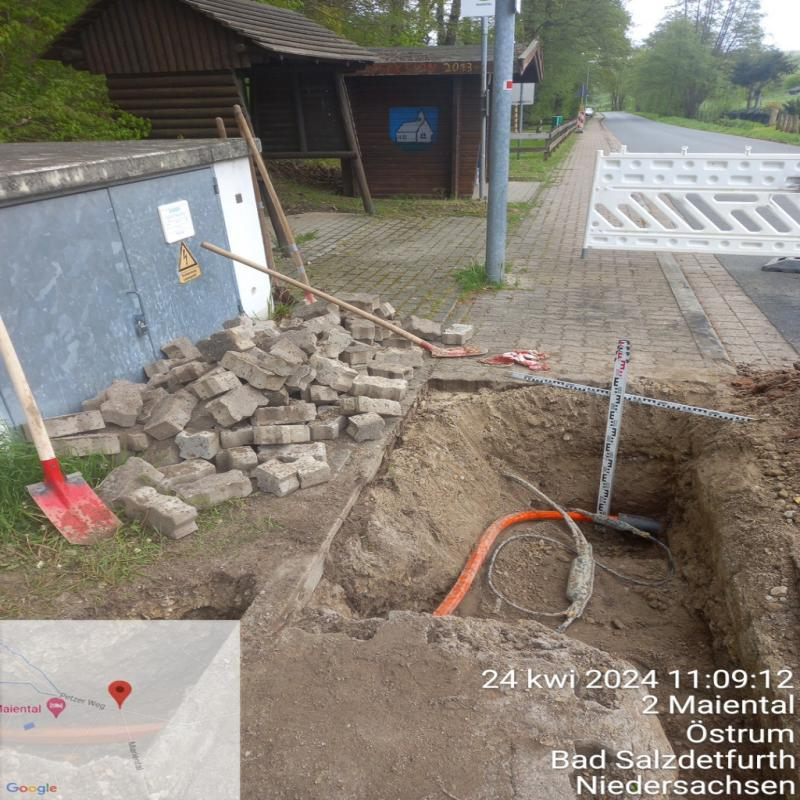Orang-Speednetrohrchen: (433, 511, 590, 616)
